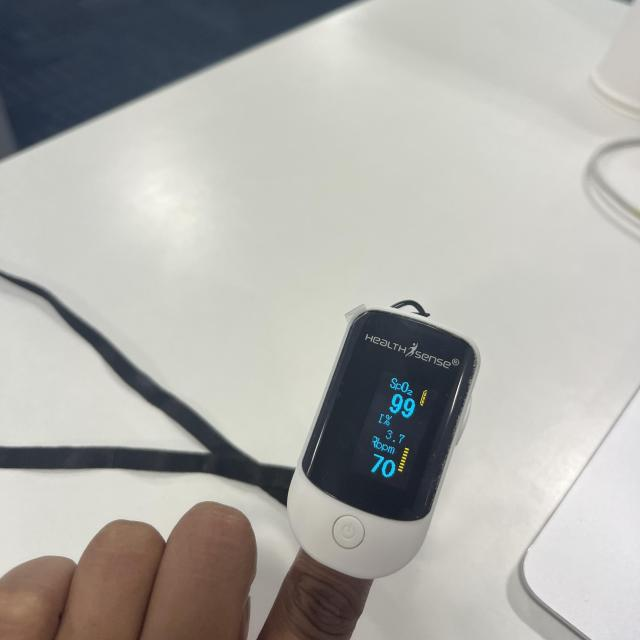spo2: (286, 309, 478, 585)
